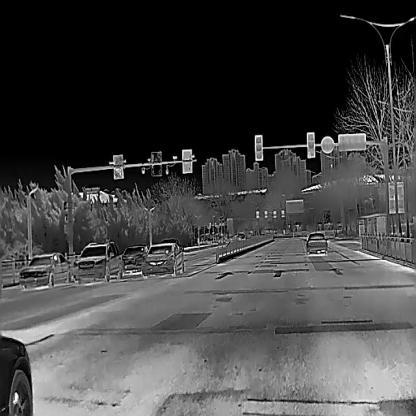car: (71, 240, 122, 281), (17, 251, 71, 289), (142, 242, 184, 277), (122, 245, 150, 273), (305, 232, 328, 255)
